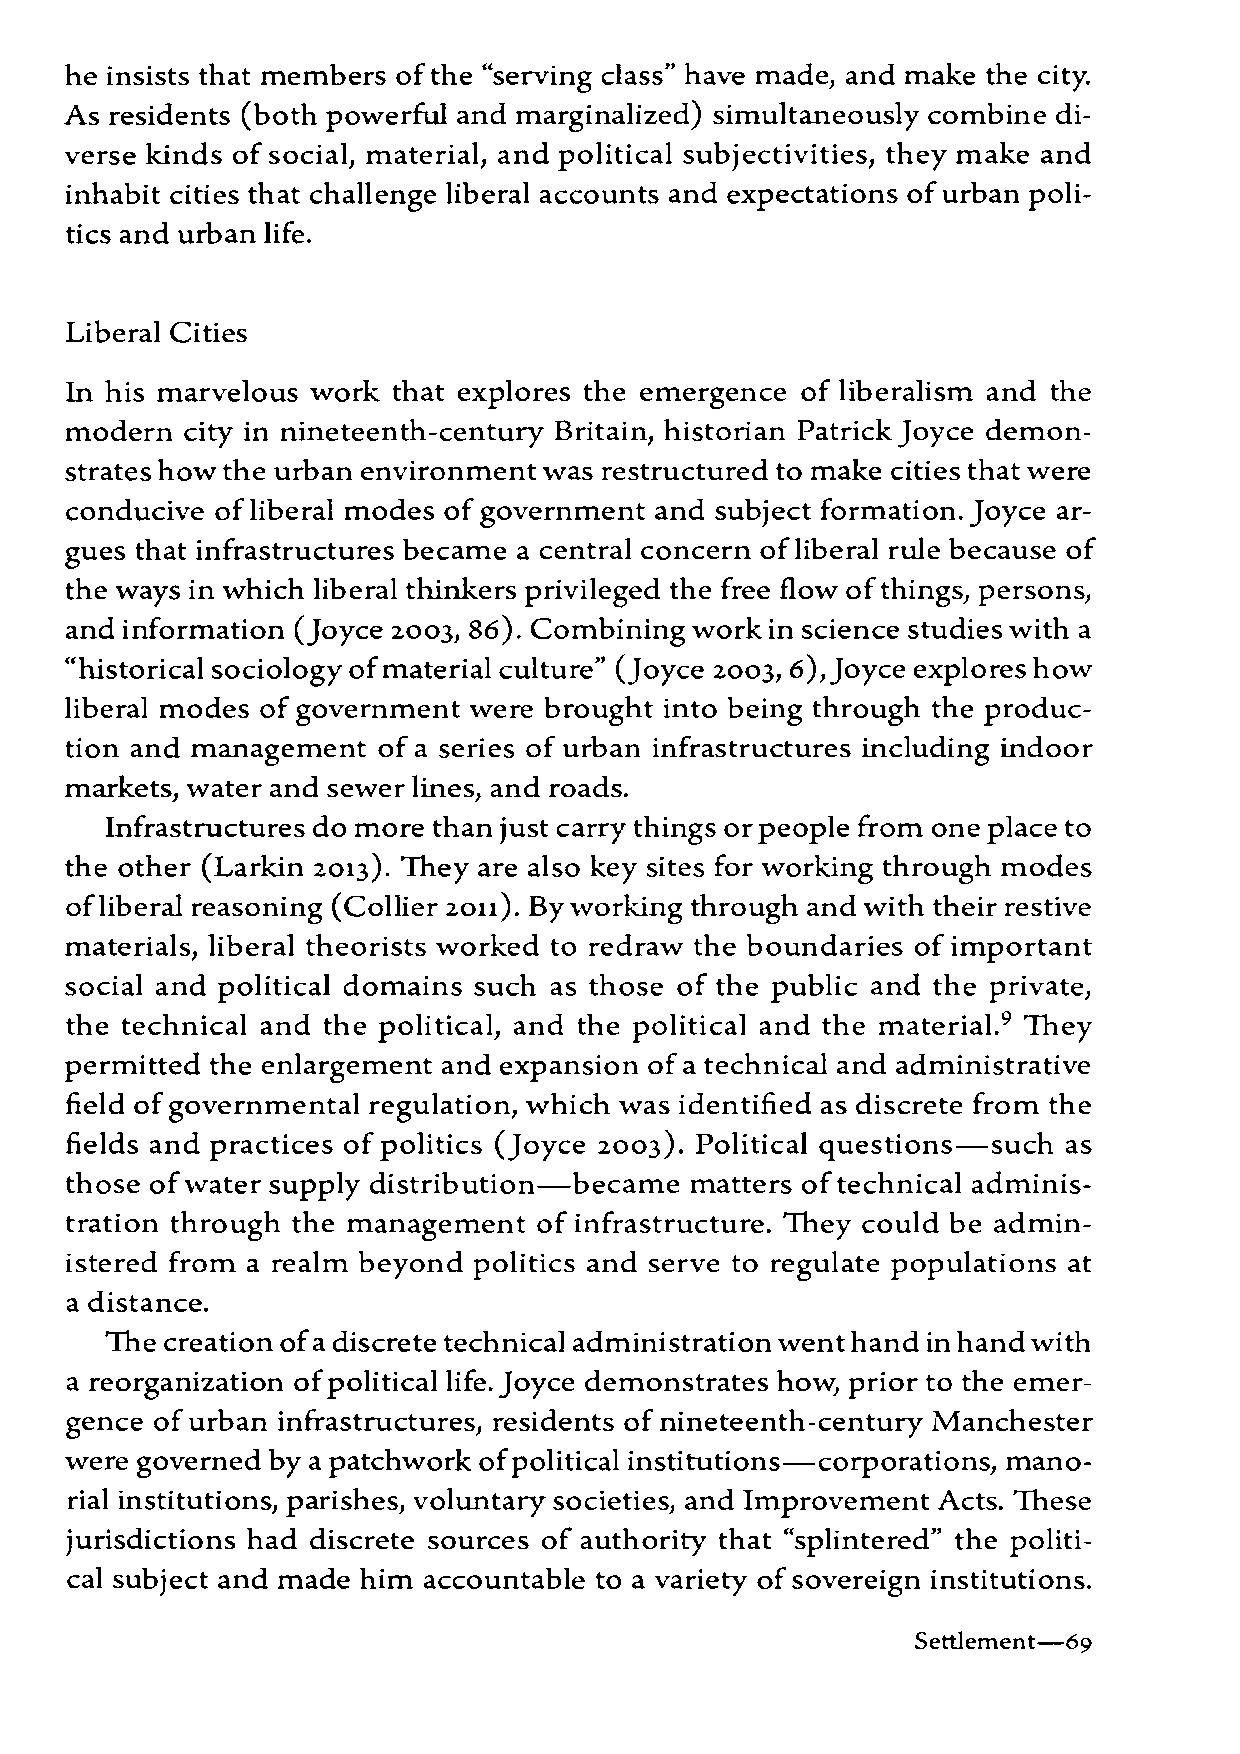chapter: (58, 309, 250, 345)
content: (58, 370, 1094, 1596), (58, 55, 1091, 250)
content_pagenumber: (1064, 1618, 1094, 1661)
